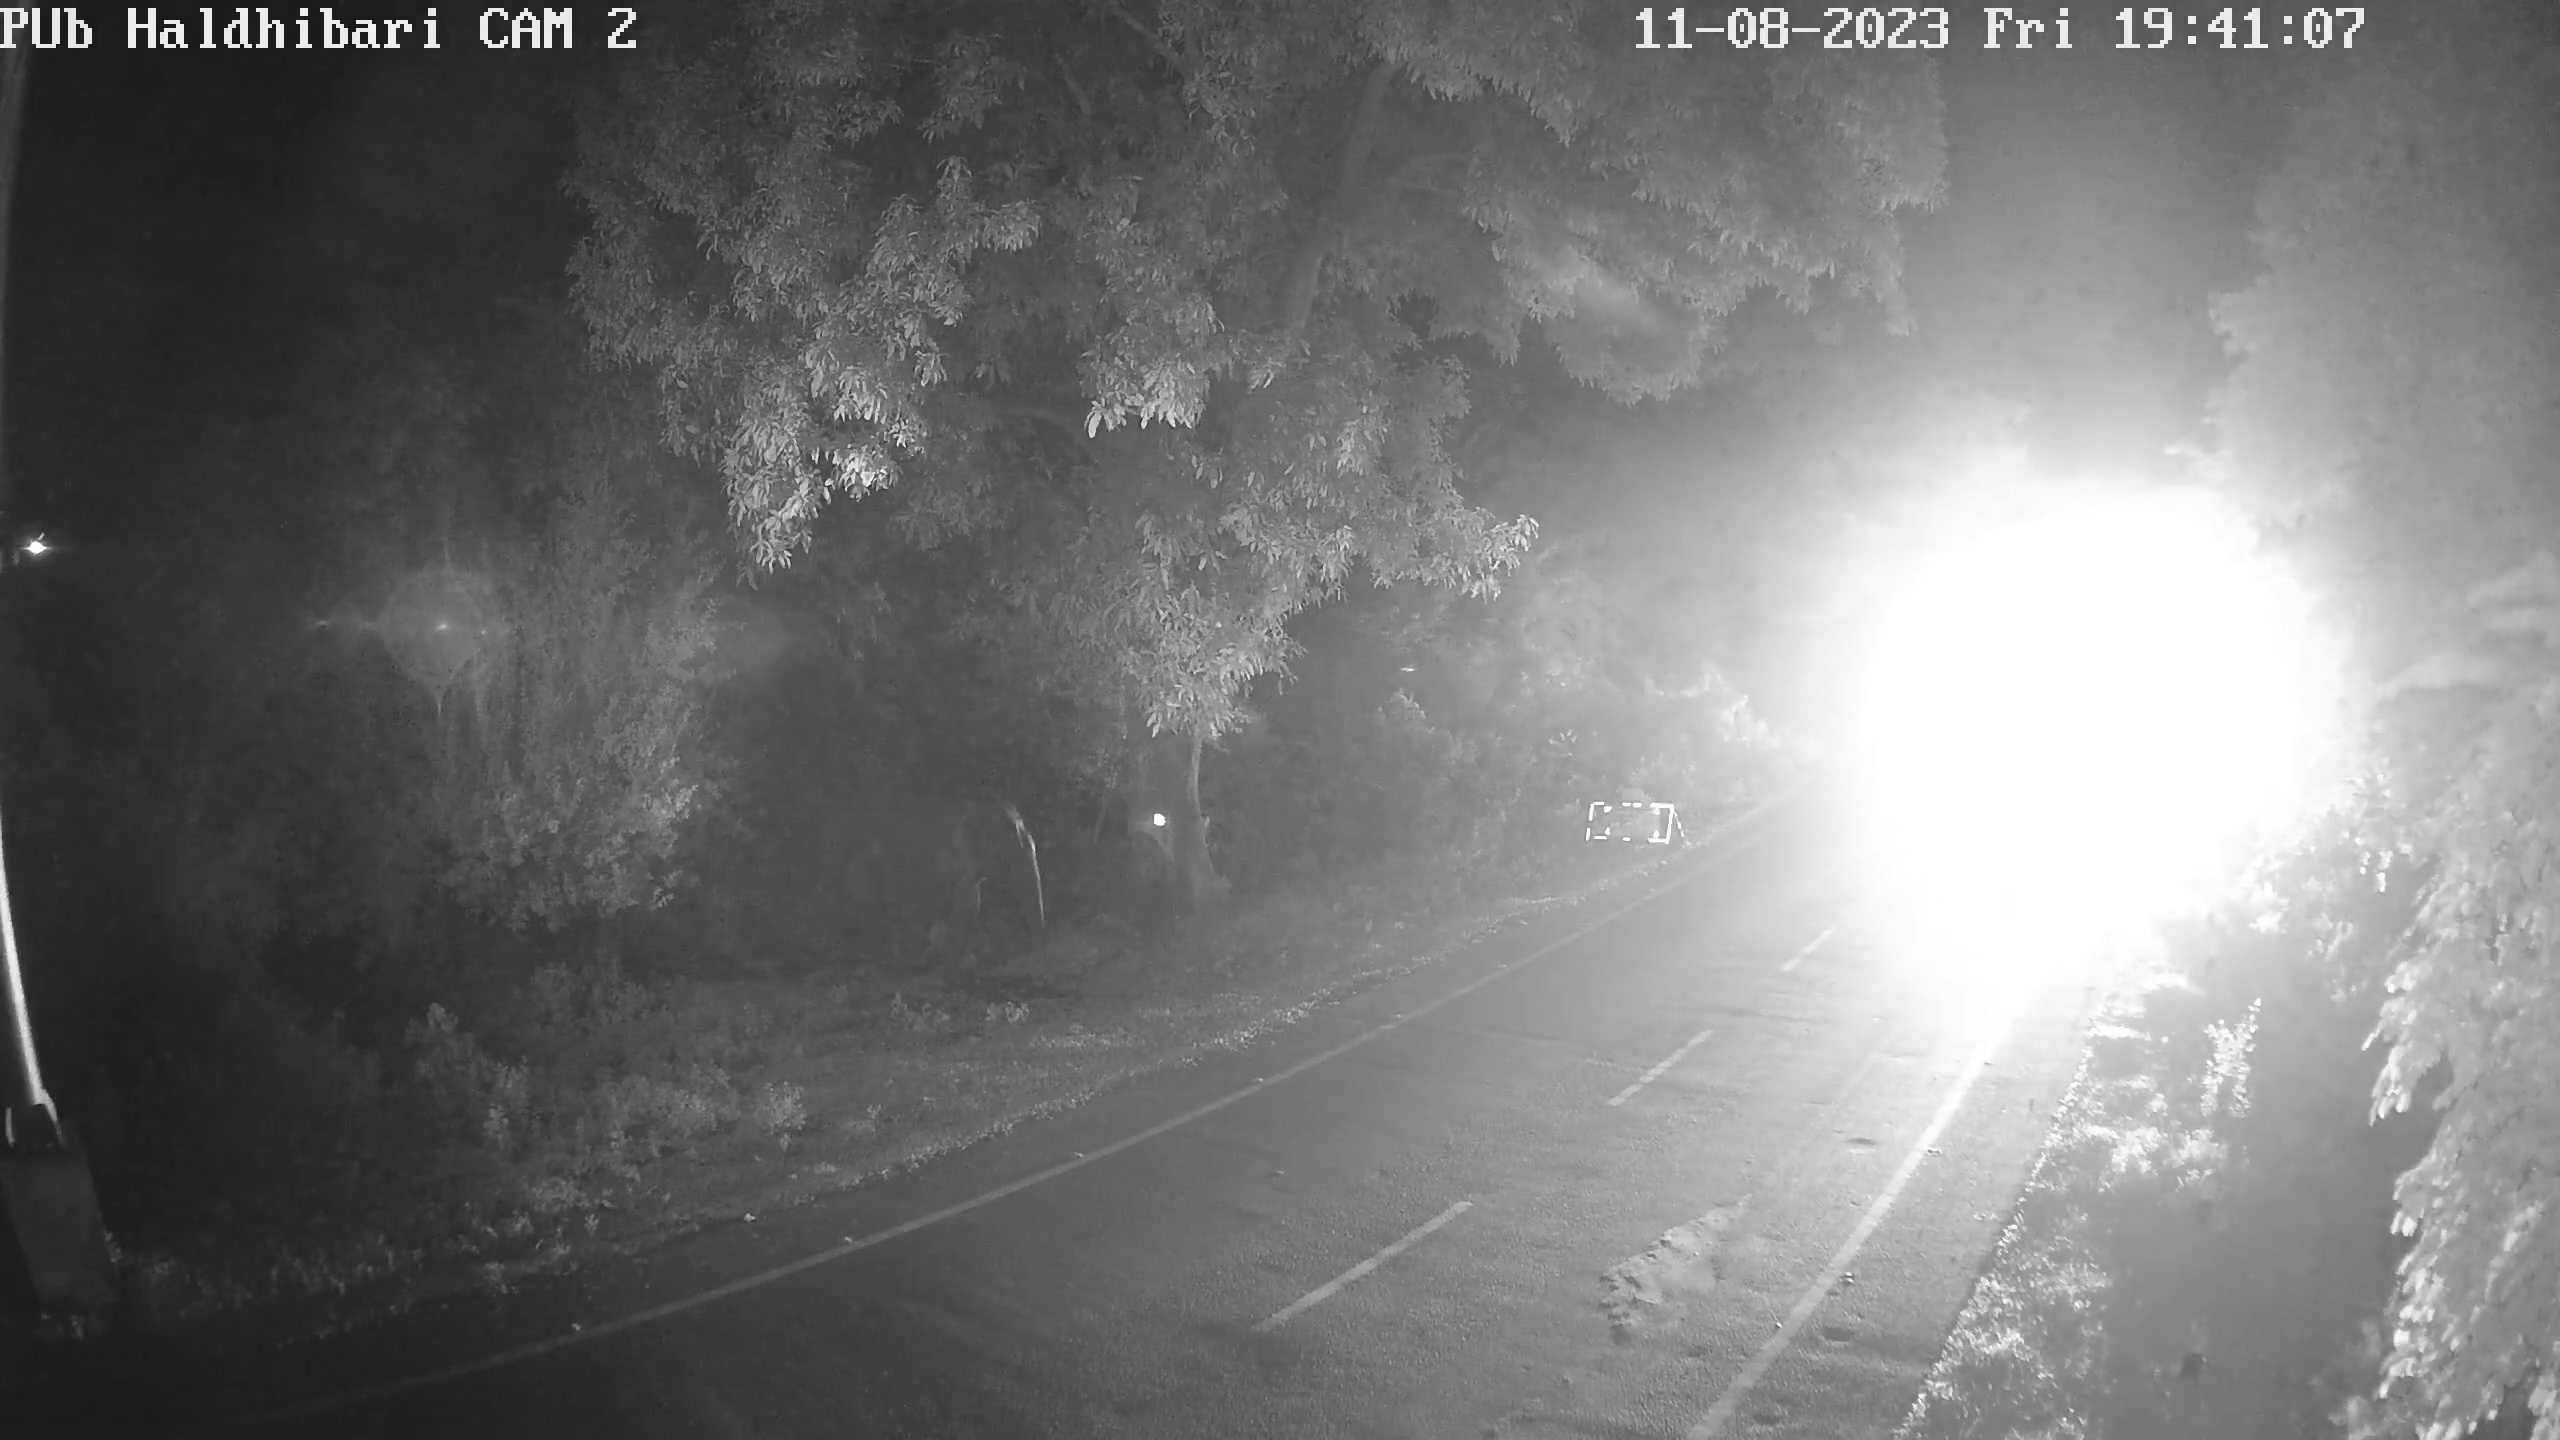elephants: (853, 784, 1048, 972)
